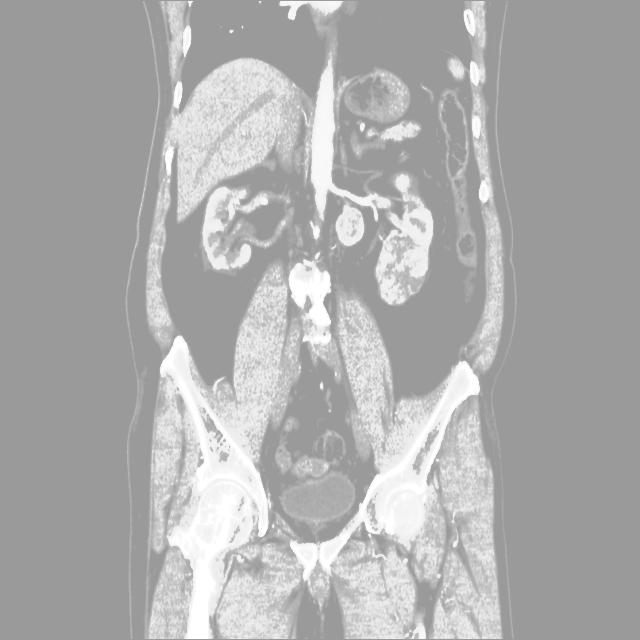TUMOR: (157, 47, 513, 353)
